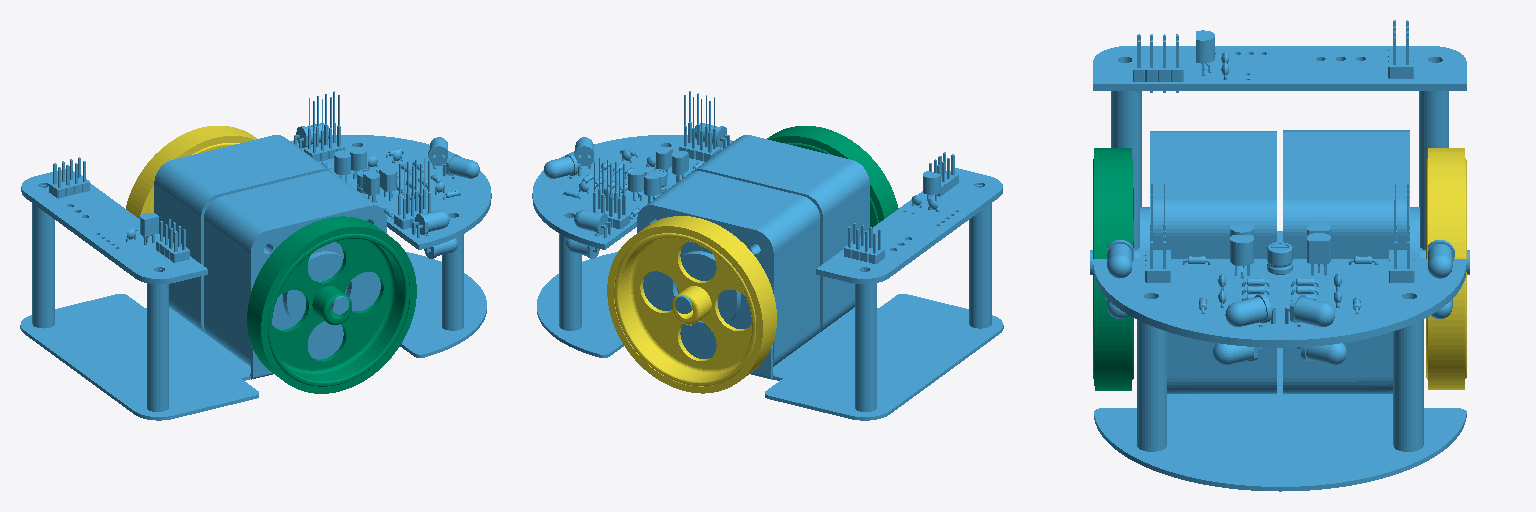
robot.urdf — pico:
<?xml version="1.0" ?>
<!-- =================================================================================== -->
<!-- |    This document was autogenerated by xacro from urdf/pico.urdf.xacro           | -->
<!-- |    EDITING THIS FILE BY HAND IS NOT RECOMMENDED                                 | -->
<!-- =================================================================================== -->
<robot name="pico">
  <!-- ========================= Link & Joint ================================ -->
  <!--  Base -->
  <link name="base_footprint"/>
  <joint name="base_joint" type="fixed">
    <origin xyz="0 0 0.024"/>
    <parent link="base_footprint"/>
    <child link="base_link"/>
  </joint>
  <link name="base_link">
    <visual>
      <origin rpy="0 0 0" xyz="0.0168 0.0282 -0.0085"/>
      <geometry>
        <mesh filename="meshes/base_link.stl" scale="0.001 0.001 0.001"/>
      </geometry>
    </visual>
    <visual>
      <origin rpy="0 0 3.14" xyz="0.0015 0 0.0313"/>
      <geometry>
        <mesh filename="meshes/pico3_main.stl" scale="0.001 0.001 0.001"/>
      </geometry>
    </visual>
    <visual>
      <origin rpy="0 0 1.57" xyz="0.04355555 0 0.012"/>
      <geometry>
        <mesh filename="meshes/pico3_sensor.stl" scale="0.001 0.001 0.001"/>
      </geometry>
    </visual>
    <visual>
      <origin rpy="0 0 0" xyz="-0.0495 0 0.02"/>
      <geometry>
        <mesh filename="meshes/pico3_power.stl" scale="0.001 0.001 0.001"/>
      </geometry>
    </visual>
  </link>
  <joint name="right_wheel_joint" type="continuous">
    <origin rpy="-3.14 0 0" xyz="0 -0.037 0"/>
    <axis xyz="0 -1 0"/>
    <parent link="base_link"/>
    <child link="right_wheel"/>
  </joint>
  <link name="right_wheel">
    <visual>
      <origin rpy="0 0 0" xyz="0.016588 -0.009495 -0.010064"/>
      <geometry>
        <mesh filename="meshes/wheel_link.stl" scale="0.001 0.001 0.001"/>
      </geometry>
    </visual>
  </link>
  <joint name="left_wheel_joint" type="continuous">
    <origin rpy="0 0 0" xyz="0 0.037 0"/>
    <axis xyz="0 1 0"/>
    <parent link="base_link"/>
    <child link="left_wheel"/>
  </joint>
  <link name="left_wheel">
    <visual>
      <origin rpy="0 0 0" xyz="0.016588 -0.009495 -0.010064"/>
      <geometry>
        <mesh filename="meshes/wheel_link.stl" scale="0.001 0.001 0.001"/>
      </geometry>
    </visual>
  </link>
</robot>

--- Facts derived from the render (not from the file) ---
The picture shows the robot from 3 angles, left to right: view 1: azimuth 30°, elevation 25°; view 2: azimuth 150°, elevation 25°; view 3: azimuth 270°, elevation 25°; orthographic projection.
Model pico with 4 links and 3 joints (2 continuous, 1 fixed), rooted at base_footprint, posed all joints at 0.
Links seen in each view (by area): view 1: base_link, right_wheel, left_wheel; view 2: base_link, left_wheel, right_wheel; view 3: base_link, right_wheel, left_wheel.
Link boxes in pixels (box(x1,y1,x2,y2)): base_link: box(20, 91, 491, 420); right_wheel: box(247, 216, 416, 393); left_wheel: box(126, 126, 256, 218); base_link: box(532, 91, 1003, 420); left_wheel: box(607, 216, 776, 393); right_wheel: box(767, 126, 898, 227); base_link: box(1090, 20, 1469, 491); right_wheel: box(1093, 148, 1133, 390); left_wheel: box(1426, 148, 1466, 389).
Bounding box of the posed robot: 0.1213 × 0.0754 × 0.0552 m (x, y, z).
Meshes: 5 distinct files referenced, 5 mesh visuals loaded (4 binary STL); not drawn: 1 (reference not matched to a file when rendering).